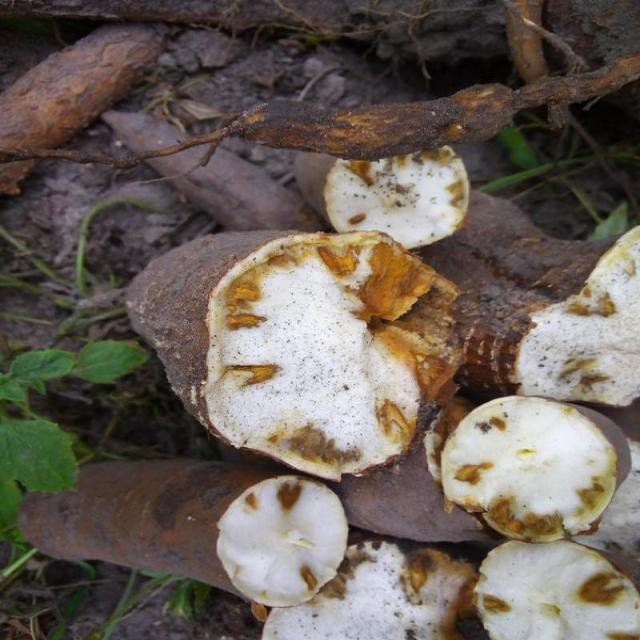cassava leaf: (202, 228, 462, 481), (439, 394, 625, 540), (292, 143, 470, 251), (214, 474, 349, 608), (473, 537, 638, 638)
